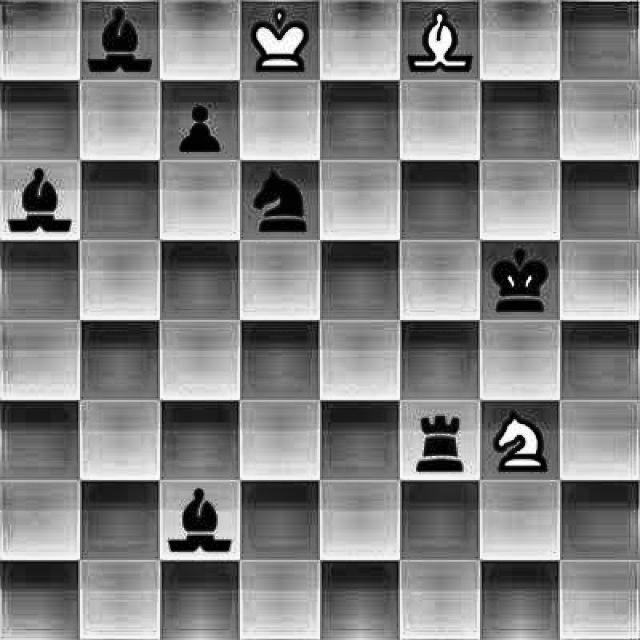Black Knight: (244, 165, 310, 238)
black bishop: (159, 482, 238, 557), (1, 162, 76, 235), (85, 3, 154, 75)
black king: (486, 244, 556, 319)
black pawn: (174, 96, 229, 156)
black rook: (405, 409, 470, 475)
white bishop: (408, 5, 476, 78)
white king: (244, 2, 314, 76)
whiteknight: (483, 396, 553, 471)
